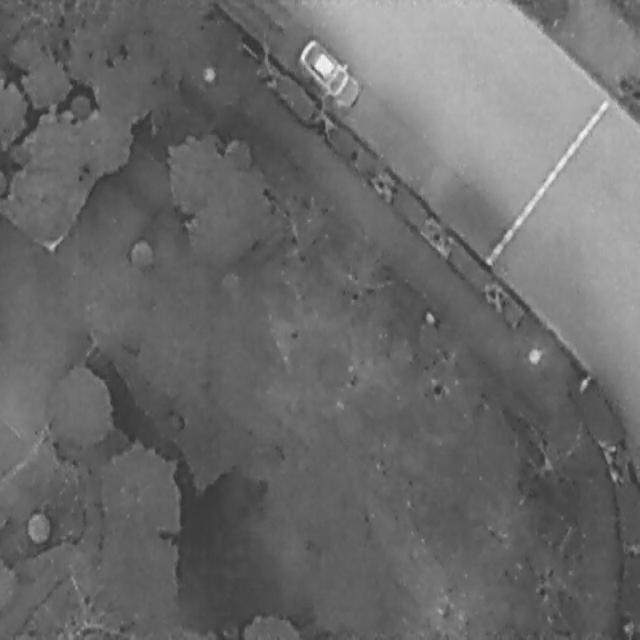Car: (293, 31, 364, 114)
